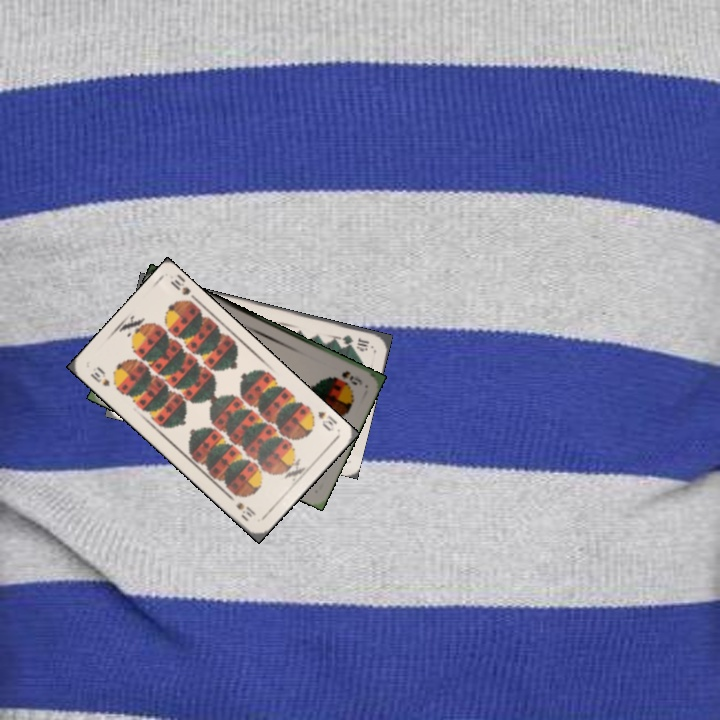G10: (333, 331, 372, 352)
S10: (305, 404, 340, 434), (86, 363, 112, 389)
SO: (337, 367, 365, 388)
